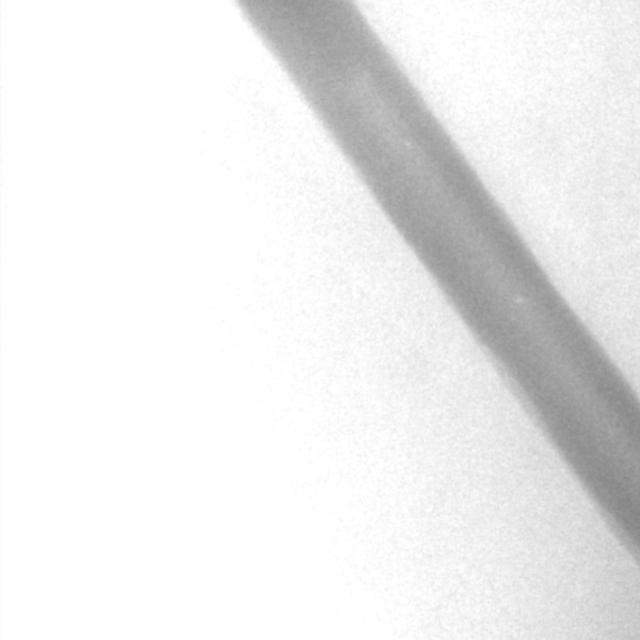air hole: (400, 135, 414, 153), (511, 290, 525, 306)
